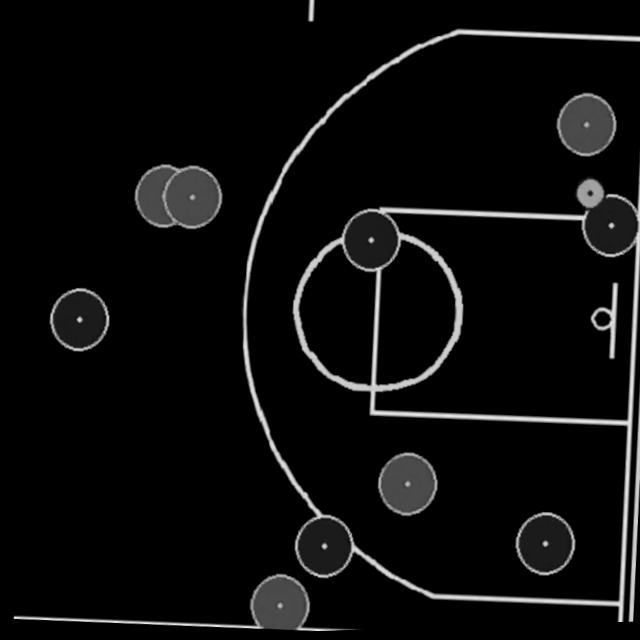Basketball: (569, 177, 603, 214)
Team_A: (509, 512, 574, 581), (44, 286, 109, 354), (288, 515, 353, 582), (337, 208, 400, 276), (578, 195, 640, 263)
Team_B: (128, 163, 194, 233), (157, 163, 223, 231), (373, 451, 436, 521), (553, 95, 616, 162), (243, 574, 308, 634)
